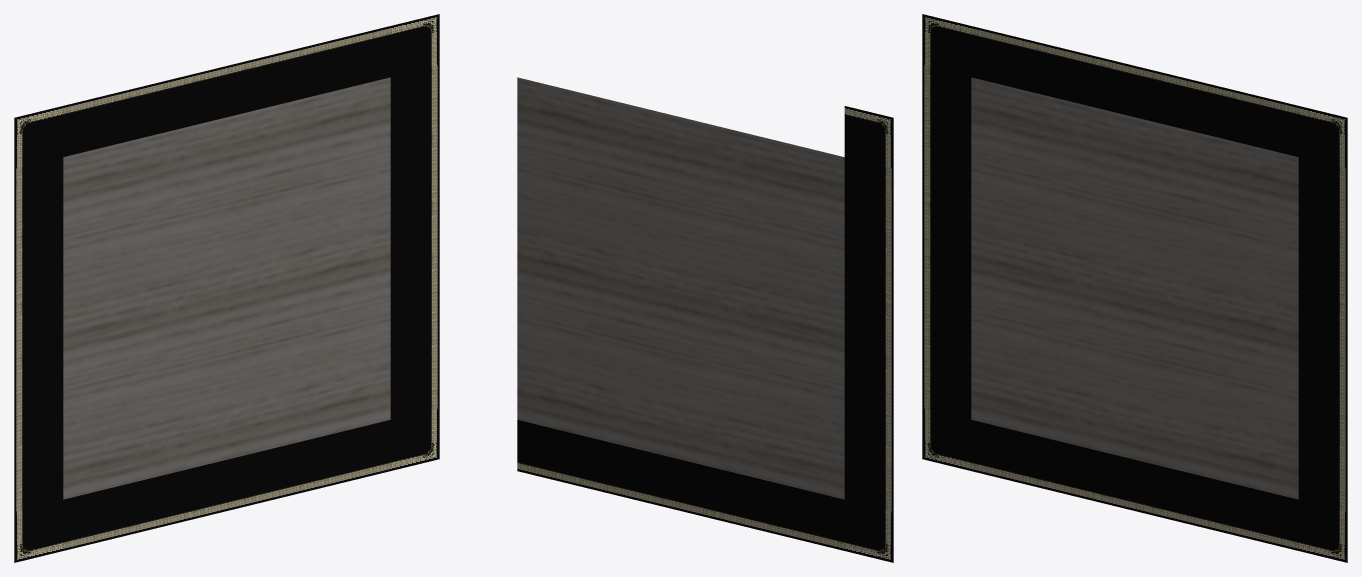
Rendered from general_frame_b.fbx.
The picture shows the model from 3 angles, left to right: view 1: azimuth 30°, elevation 25°; view 2: azimuth 150°, elevation 25°; view 3: azimuth 330°, elevation 25°; orthographic projection.
Visible parts, largest first — view 1: MiddleMesh, Leftmesh, Rightmesh, TopMesh, BottomMesh, TopLeftmesh, BottomRightMesh, TopRightMesh, BottomLeftMesh; view 2: MiddleMesh, Leftmesh, BottomMesh, TopLeftmesh, BottomLeftMesh; view 3: MiddleMesh, Leftmesh, Rightmesh, TopMesh, BottomMesh, TopRightMesh, BottomLeftMesh, TopLeftmesh, BottomRightMesh.
Part boxes in pixels (left/top/right/bottom): MiddleMesh: left=63, top=77, right=390, bottom=499; Leftmesh: left=14, top=157, right=63, bottom=511; Rightmesh: left=390, top=65, right=439, bottom=419; TopMesh: left=63, top=26, right=390, bottom=156; BottomMesh: left=63, top=420, right=390, bottom=550; TopLeftmesh: left=14, top=106, right=63, bottom=168; BottomRightMesh: left=390, top=408, right=439, bottom=470; TopRightMesh: left=390, top=14, right=439, bottom=76; BottomLeftMesh: left=14, top=500, right=63, bottom=562; MiddleMesh: left=517, top=77, right=844, bottom=499; Leftmesh: left=844, top=157, right=893, bottom=511; BottomMesh: left=517, top=420, right=844, bottom=550; TopLeftmesh: left=844, top=106, right=893, bottom=168; BottomLeftMesh: left=844, top=500, right=893, bottom=562; MiddleMesh: left=971, top=77, right=1298, bottom=499; Leftmesh: left=922, top=65, right=971, bottom=419; Rightmesh: left=1298, top=157, right=1347, bottom=511; TopMesh: left=971, top=26, right=1298, bottom=156; BottomMesh: left=971, top=420, right=1298, bottom=550; TopRightMesh: left=1298, top=106, right=1347, bottom=168; BottomLeftMesh: left=922, top=408, right=971, bottom=470; TopLeftmesh: left=922, top=14, right=971, bottom=76; BottomRightMesh: left=1298, top=500, right=1347, bottom=562.
Bounding box in the file's own units: 130 × 130 × 2.13e-05.
Materials: 3 (3 with a texture image).
